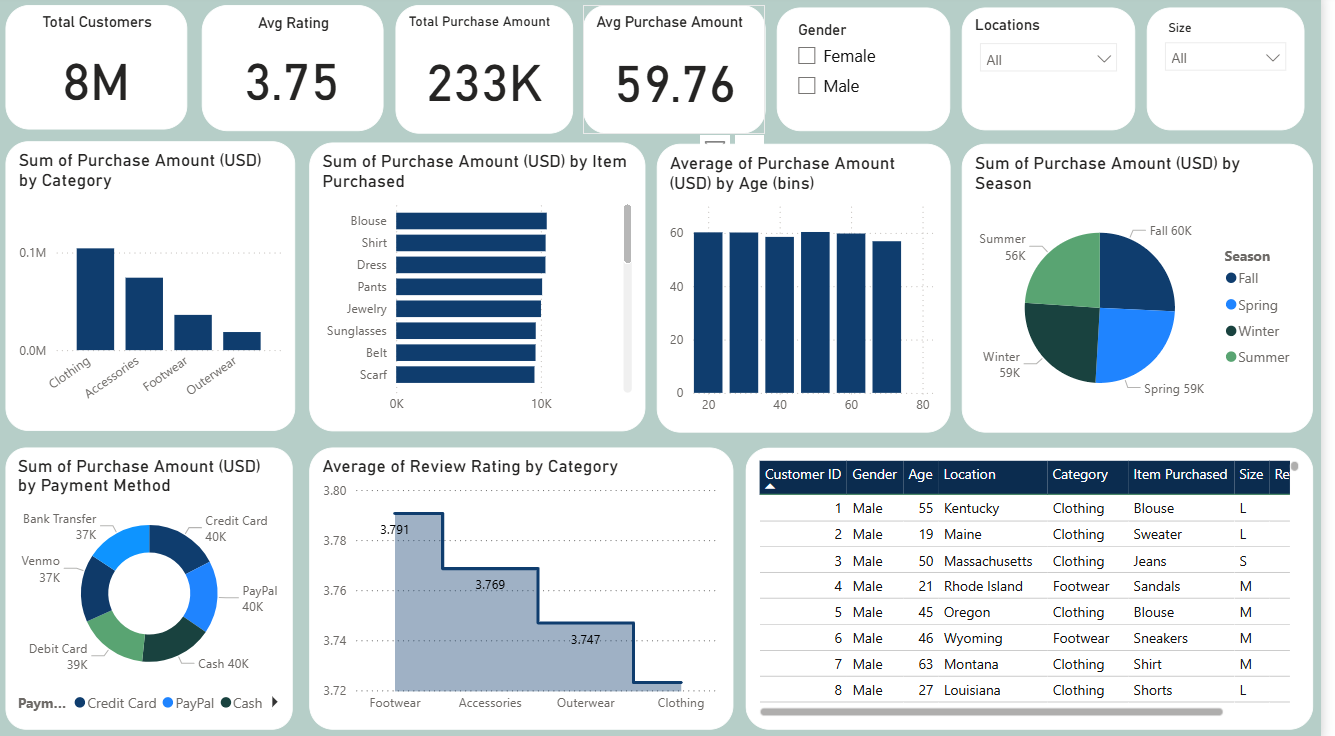

What the dashboard file says about the page in this screenshot:
{"tool":"powerbi","page":{"name":"Page 1","canvas":[1280,719],"ordinal":0},"visuals":[{"type":"columnChart","title":"Total Purchase Amount (USD) by Category","fields":{"Category":["Table1.Category"],"Y":["Sum(Table1.Purchase Amount (USD))"]},"box":[12,141,279.5,279.5],"z":0},{"type":"barChart","title":"Total Purchase Amount (USD) by Item Purchased","fields":{"Category":["Table1.Item Purchased"],"Y":["Sum(Table1.Purchase Amount (USD))"]},"box":[304.8,142.2,324.1,278.3],"z":1000},{"type":"slicer","title":"Locations","fields":{"Values":["Table1.Location","Table1.Purchase Amount (USD)"]},"box":[933.8,12.5,167.5,72.5],"z":2000},{"type":"card","title":"Total Purchase Amount","fields":{"Values":["Table1.Total Purchase Amount"]},"box":[387.5,10,171.2,123.8],"z":3000},{"type":"card","title":"Total Customers Records","fields":{"Values":["Table1.Total customers"]},"box":[12.5,10,175,120],"z":4000},{"type":"card","title":"Avg Purchase Amount","fields":{"Values":["Table1.Avg Purchase Amount"]},"box":[568.8,10,176.2,123.8],"z":5000},{"type":"card","title":"Avg Rating","fields":{"Values":["Table1.Avg Review Rating"]},"box":[201.2,10,175,121.2],"z":6000},{"type":"stackedAreaChart","fields":{"Category":["Table1.Category"],"Y":["Avg(Table1.Review Rating)"]},"box":[304.8,436.1,408.4,272.3],"z":7000},{"type":"slicer","fields":{"Values":["Table1.Gender"]},"box":[755.4,12,167.5,119.3],"z":8000},{"type":"slicer","fields":{"Values":["Table1.Size"]},"box":[1112.5,12.5,151.2,72.5],"z":9000},{"type":"clusteredColumnChart","title":"Average Purchase Amount (USD) by Age","fields":{"Y":["Avg(Table1.Purchase Amount (USD))"],"Category":["Table1.Age (bins)"]},"box":[639.7,143.4,283.1,278.3],"z":10000},{"type":"donutChart","title":"Total Purchase Amount (USD) by Payment Method","fields":{"Category":["Table1.Payment Method"],"Y":["Sum(Table1.Purchase Amount (USD))"]},"box":[12,436.1,277.1,272.3],"z":11000},{"type":"pieChart","title":"Total Purchase Amount (USD) by Season","fields":{"Category":["Table1.Season"],"Y":["Sum(Table1.Purchase Amount (USD))"]},"box":[933.8,167.5,338.8,253.8],"z":12000},{"type":"tableEx","fields":{"Values":["Table1.Customer ID","Table1.Gender","Table1.Age","Table1.Location","Table1.Category","Table1.Item Purchased","Table1.Size","Table1.Review Rating"]},"box":[725.3,436.1,547,272.3],"z":13000},{"type":"advancedSlicerVisual","fields":{"Values":["Table1.Subscription Status"]},"box":[933.8,95,330,60],"z":14000}]}

Visuals, with their boxes in screenshot pixels (x1, y1, x2, y2), scaled from the page's 1280x719 canvas onto the 1335x736 screenshot:
"Total Purchase Amount (USD) by Category" columnChart: (x1=13, y1=144, x2=304, y2=430)
"Total Purchase Amount (USD) by Item Purchased" barChart: (x1=318, y1=146, x2=656, y2=430)
"Locations" slicer: (x1=974, y1=13, x2=1149, y2=87)
"Total Purchase Amount" card: (x1=404, y1=10, x2=583, y2=137)
"Total Customers Records" card: (x1=13, y1=10, x2=196, y2=133)
"Avg Purchase Amount" card: (x1=593, y1=10, x2=777, y2=137)
"Avg Rating" card: (x1=210, y1=10, x2=392, y2=134)
stackedAreaChart - Table1.Category x Avg(Table1.Review Rating): (x1=318, y1=446, x2=744, y2=725)
slicer - Table1.Gender: (x1=788, y1=12, x2=963, y2=134)
slicer - Table1.Size: (x1=1160, y1=13, x2=1318, y2=87)
"Average Purchase Amount (USD) by Age" clusteredColumnChart: (x1=667, y1=147, x2=962, y2=432)
"Total Purchase Amount (USD) by Payment Method" donutChart: (x1=13, y1=446, x2=302, y2=725)
"Total Purchase Amount (USD) by Season" pieChart: (x1=974, y1=171, x2=1327, y2=431)
tableEx - Table1.Customer ID x Table1.Gender: (x1=756, y1=446, x2=1327, y2=725)
advancedSlicerVisual - Table1.Subscription Status: (x1=974, y1=97, x2=1318, y2=159)
